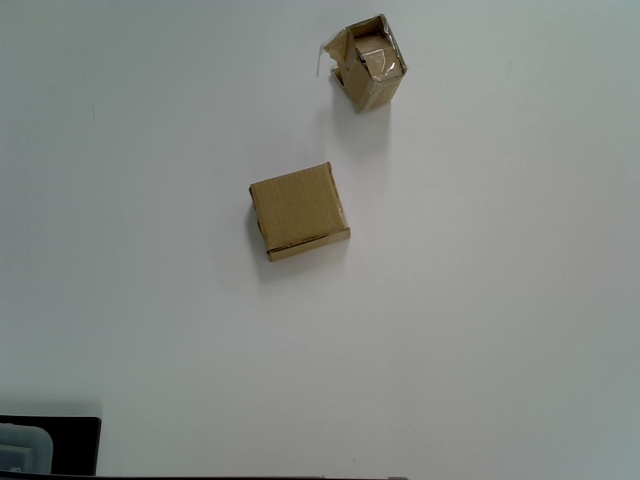defect: (314, 11, 408, 115)
normal: (247, 157, 353, 262)
